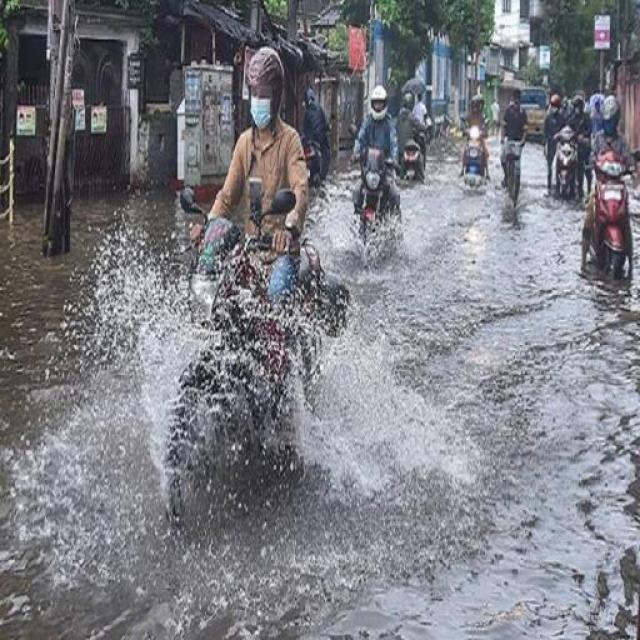puddle: (363, 278, 585, 628), (1, 262, 186, 640), (128, 461, 428, 622), (435, 189, 501, 434)
